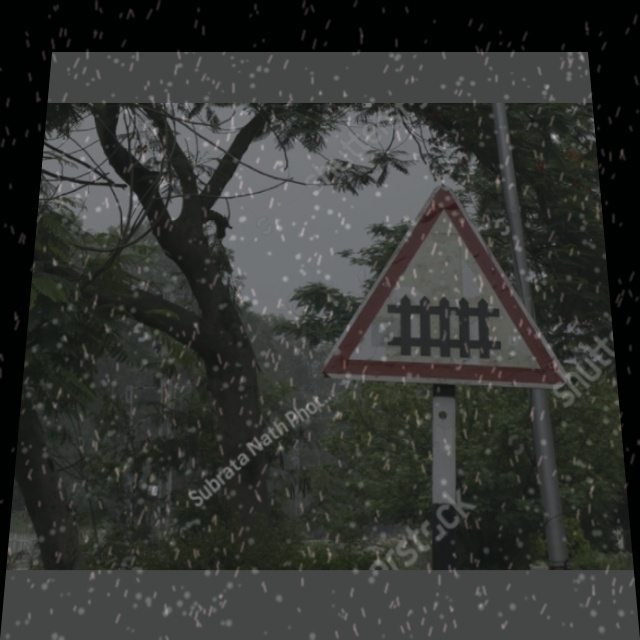Guarded_Level_Crossing: (326, 191, 570, 385)
